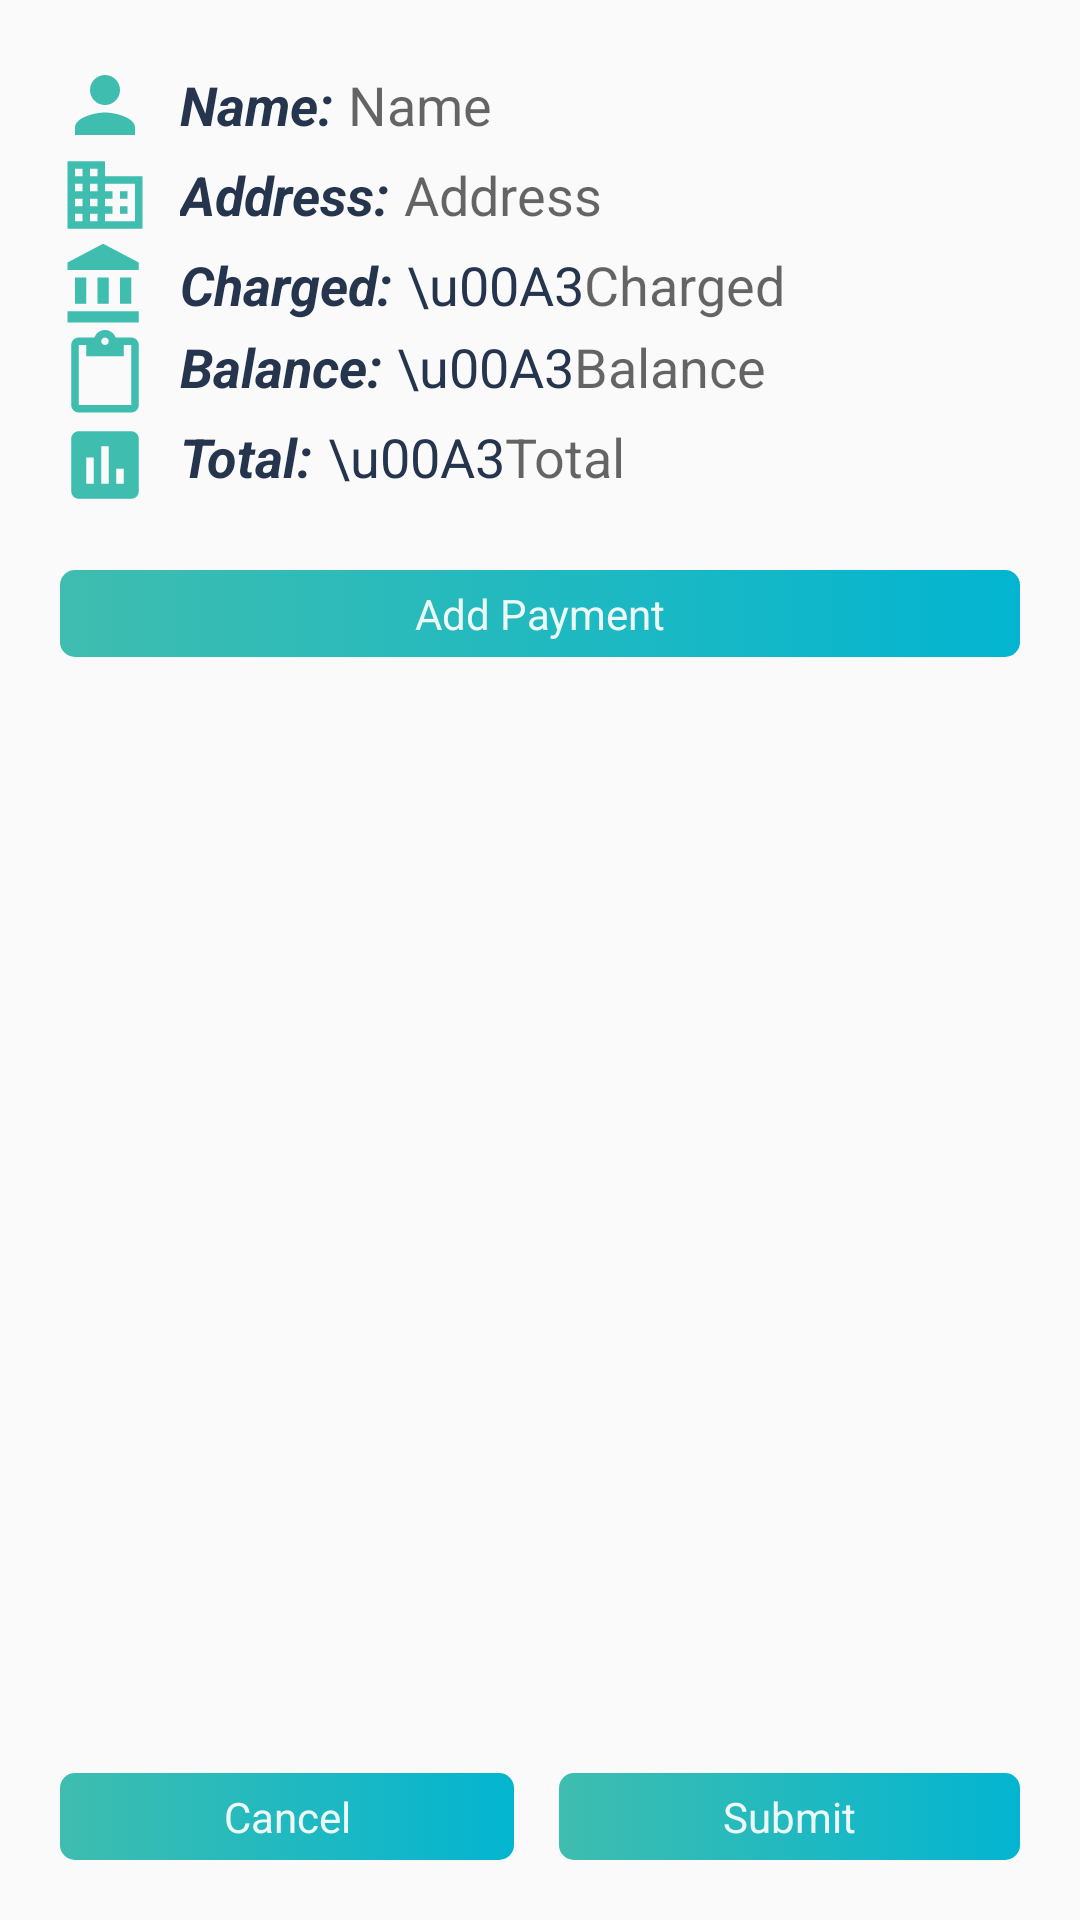

Icons on this 1080w x 1920h Android screen, each with its box as (x1, y1, x2, y2):
clients add activity client: (75, 75, 135, 135)
